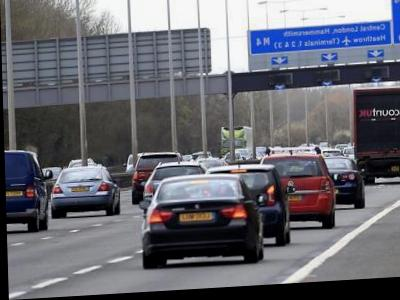License_Plate: (177, 211, 215, 222), (70, 183, 92, 192)
